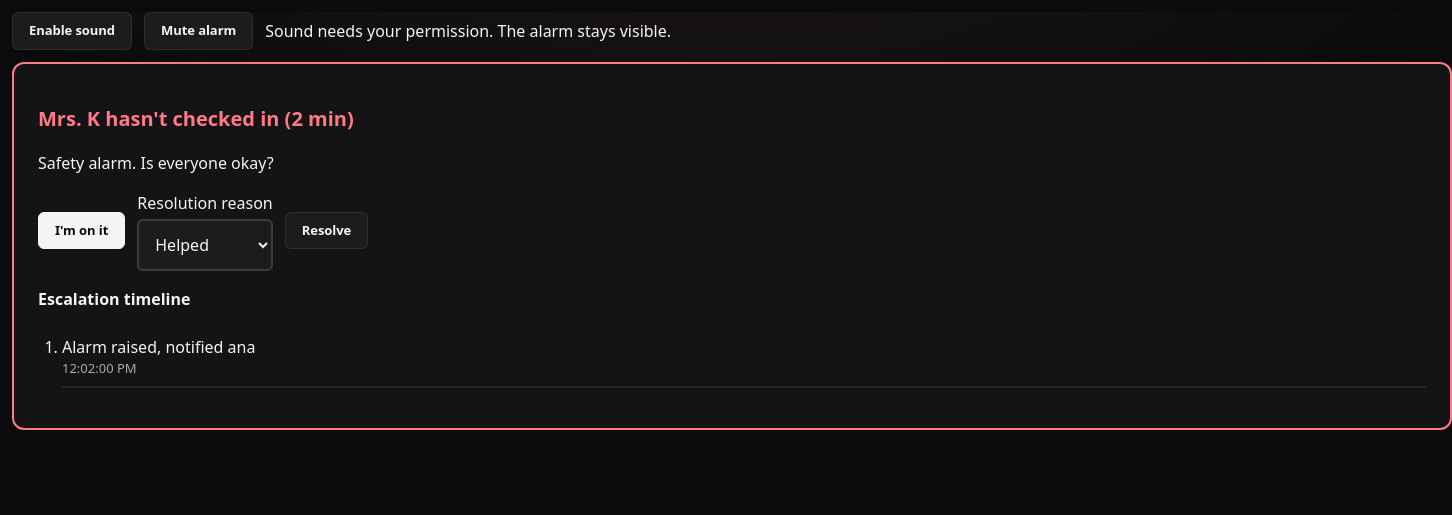
supervisor alarm › keeps the alarm after a failed response
Click the button "Resolve": coordinates (326, 231) [285,212,368,249]
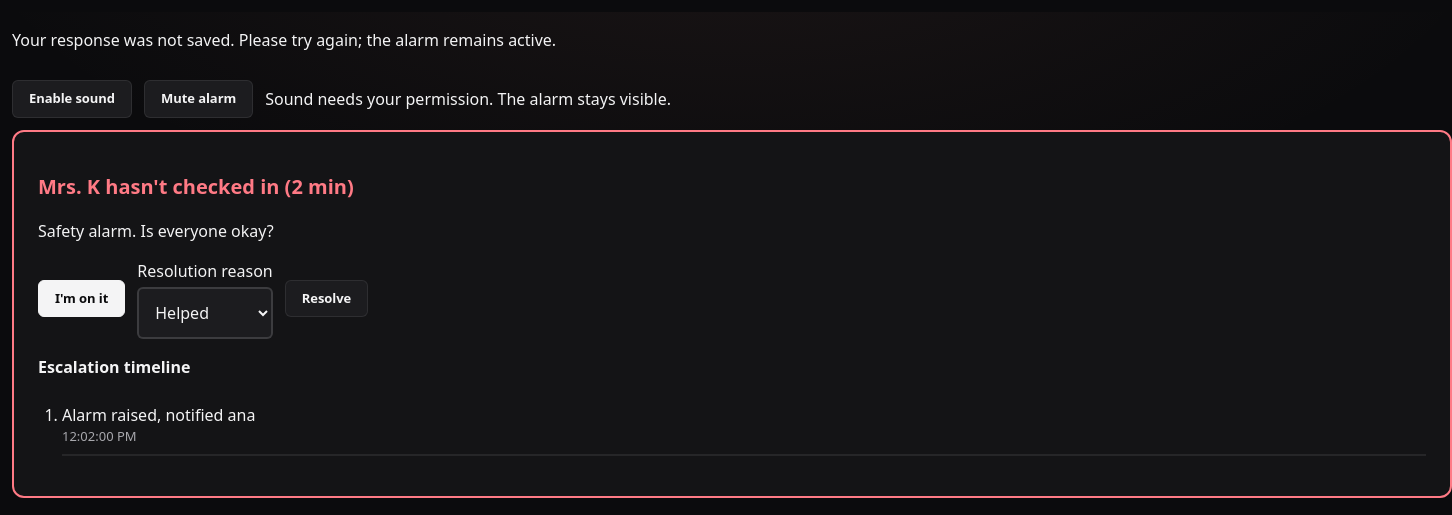
Check: the message "Mrs. K hasn't checked in (2 min) Safety alarm. Is everyone okay?" is shown, box [38,173,354,242]
Check: the text "Your response was not saved. Please try again; the alarm remains active." is shown, box [12,29,556,51]
